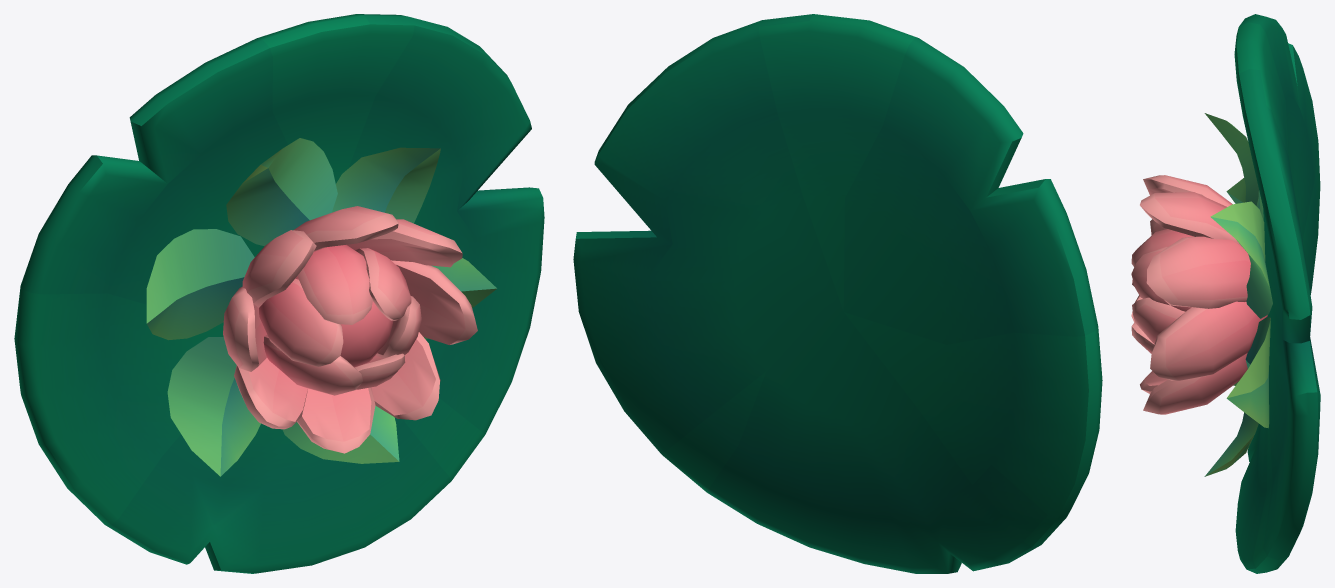
File: PlantWarrior_Shield.obj
The picture shows the model from 3 angles, left to right: view 1: azimuth 30°, elevation 25°; view 2: azimuth 150°, elevation 25°; view 3: azimuth 270°, elevation 25°; orthographic projection. The views are drawn at different scales.
Visible parts, largest first — view 1: PlantWarrior_Shield; view 2: PlantWarrior_Shield; view 3: PlantWarrior_Shield.
Boxes of the visible parts, x1,y1,x2,y2 form: PlantWarrior_Shield: [14, 14, 544, 573]; PlantWarrior_Shield: [573, 14, 1102, 573]; PlantWarrior_Shield: [1131, 14, 1320, 573].
Size of the model in its own units: 0.9914 by 0.9749 by 0.3312.
1 material, 1 textured.
